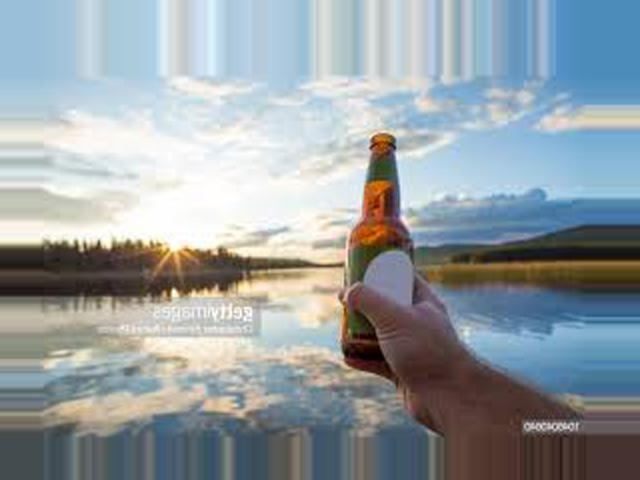beer: (339, 133, 415, 357)
